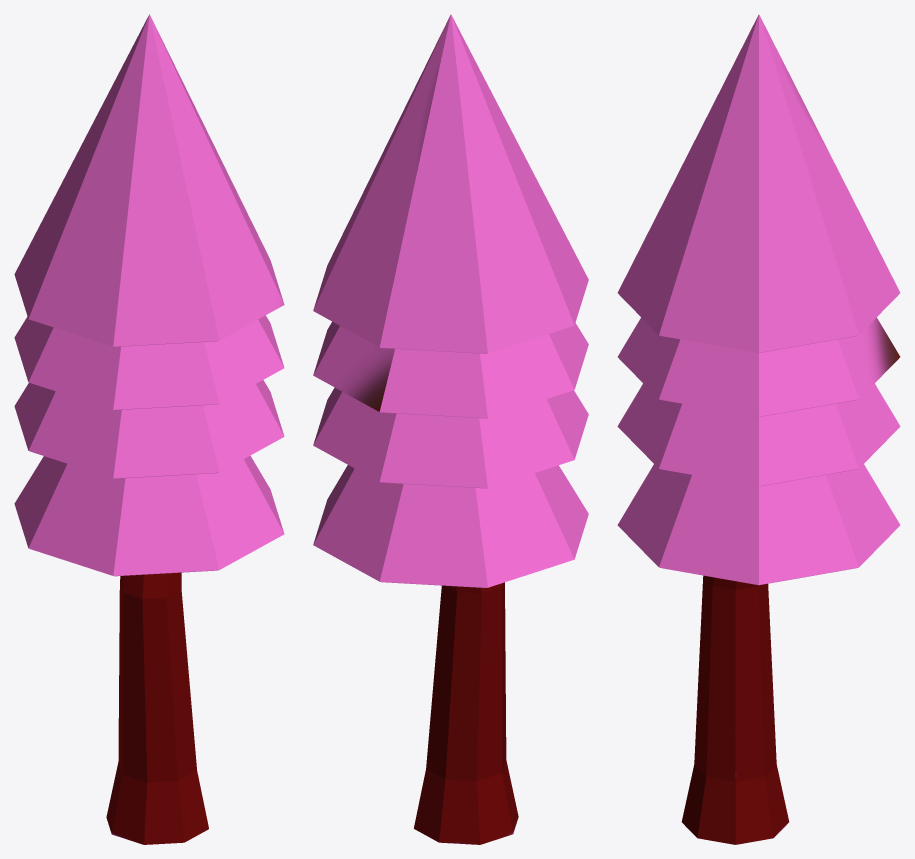
Rendered from Trees3Variant(pink).fbx.
The picture shows the model from 3 angles, left to right: view 1: azimuth 30°, elevation 25°; view 2: azimuth 150°, elevation 25°; view 3: azimuth 270°, elevation 25°; orthographic projection. The views are drawn at different scales.
Visible parts, largest first — view 1: PineLeaves, PineTreeBase; view 2: PineLeaves, PineTreeBase; view 3: PineLeaves, PineTreeBase.
Boxes of the visible parts, x1,y1,x2,y2 form: PineLeaves: (14,14,284,576); PineTreeBase: (106,572,208,844); PineLeaves: (313,14,588,587); PineTreeBase: (414,582,518,844); PineLeaves: (617,14,900,585); PineTreeBase: (681,575,789,844).
Bounding box in the file's own units: 10.67 × 10.67 × 33.68.
Materials: 2 (2 with a texture image).
